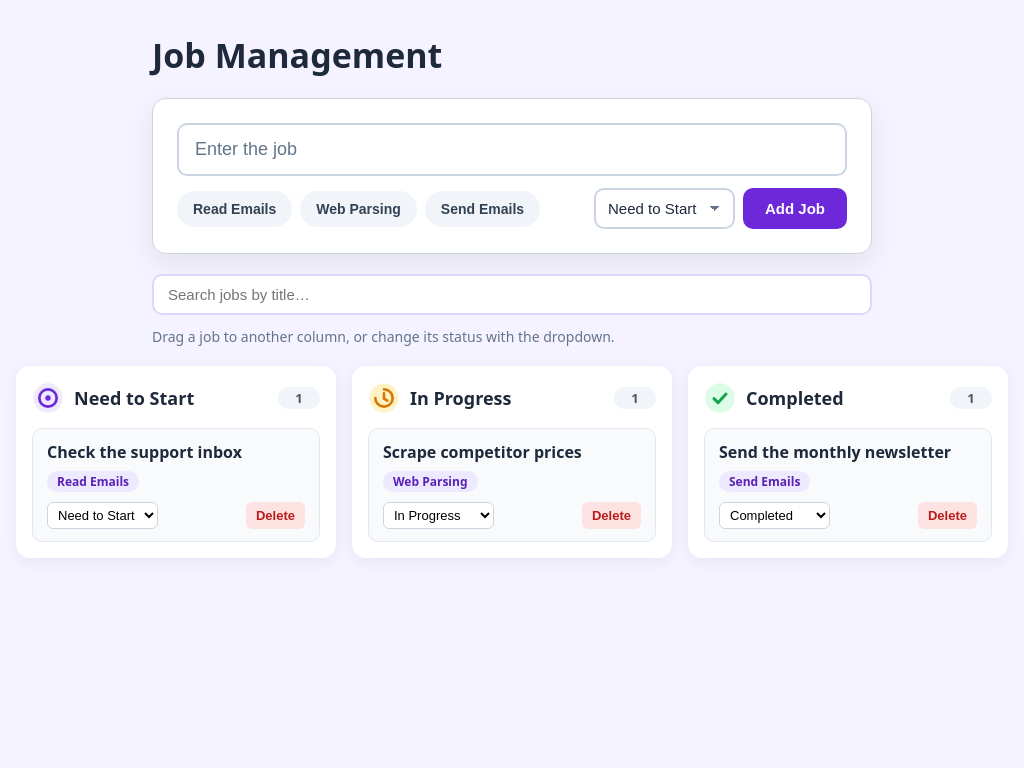
Test case: adds a new job from the form
Type "Parse product pages" into the field with placeholder "Enter the job" at {"x": 512, "y": 150}, box left=177, top=123, right=847, bottom=176
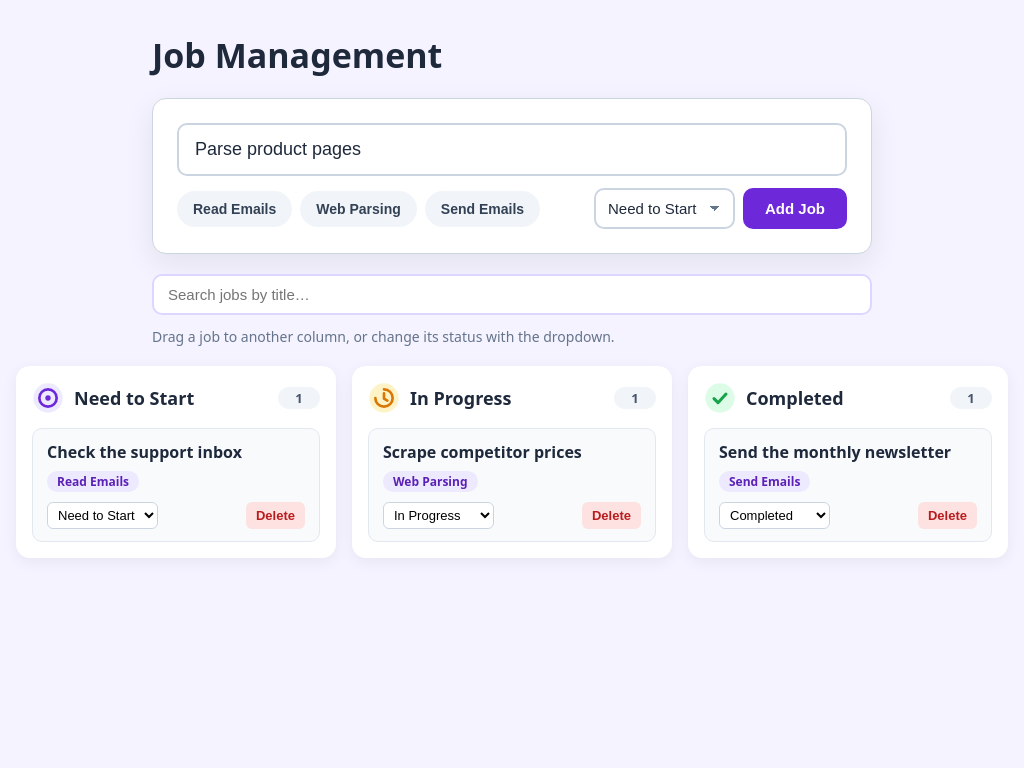
Click the button "Web Parsing" at {"x": 359, "y": 208}, box left=300, top=190, right=417, bottom=226
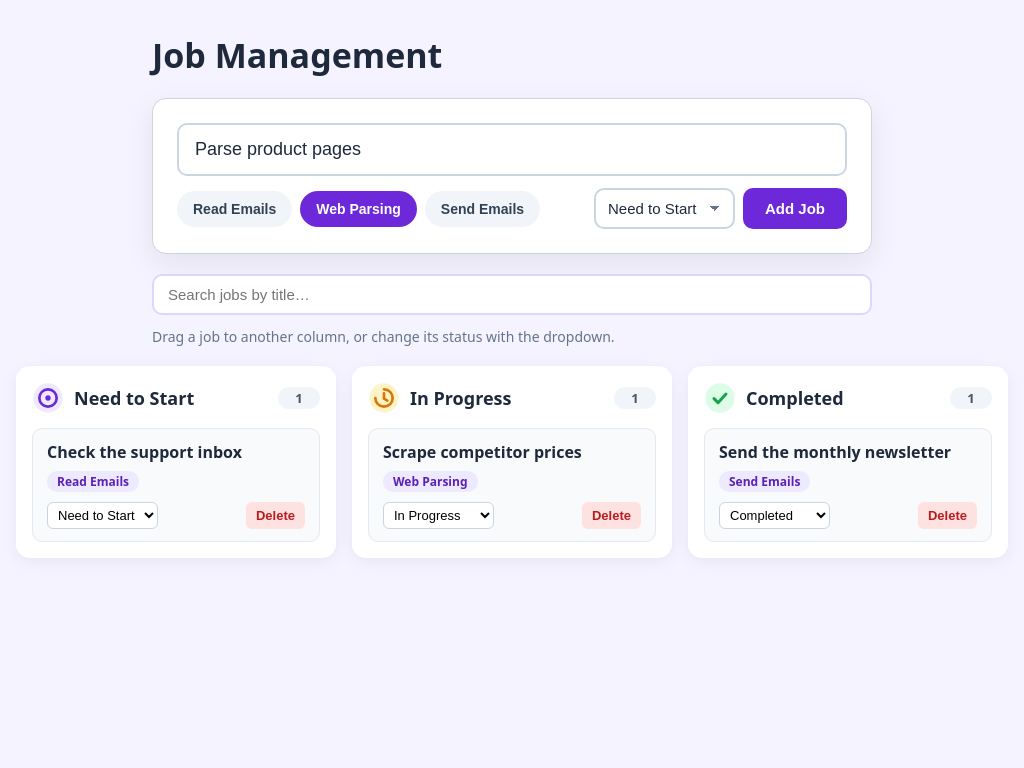
Select "In Progress" in the dropdown named "New job status" at {"x": 664, "y": 208}, box left=594, top=188, right=735, bottom=229
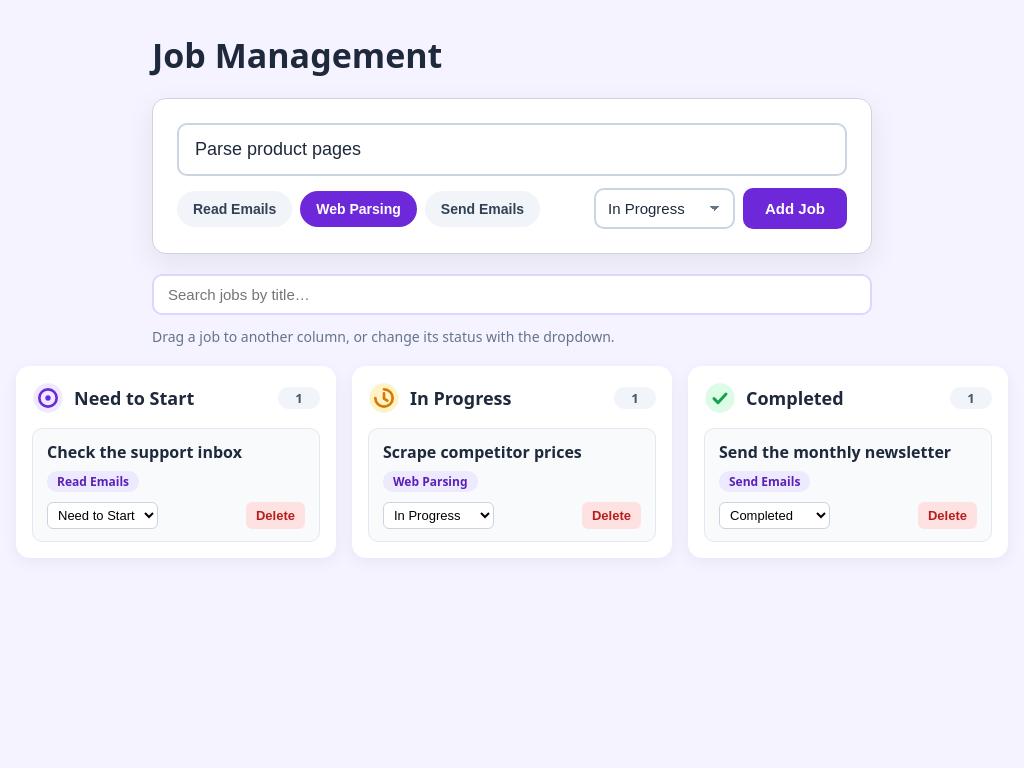
Click the button "Add Job" at {"x": 795, "y": 208}, box left=743, top=188, right=847, bottom=229
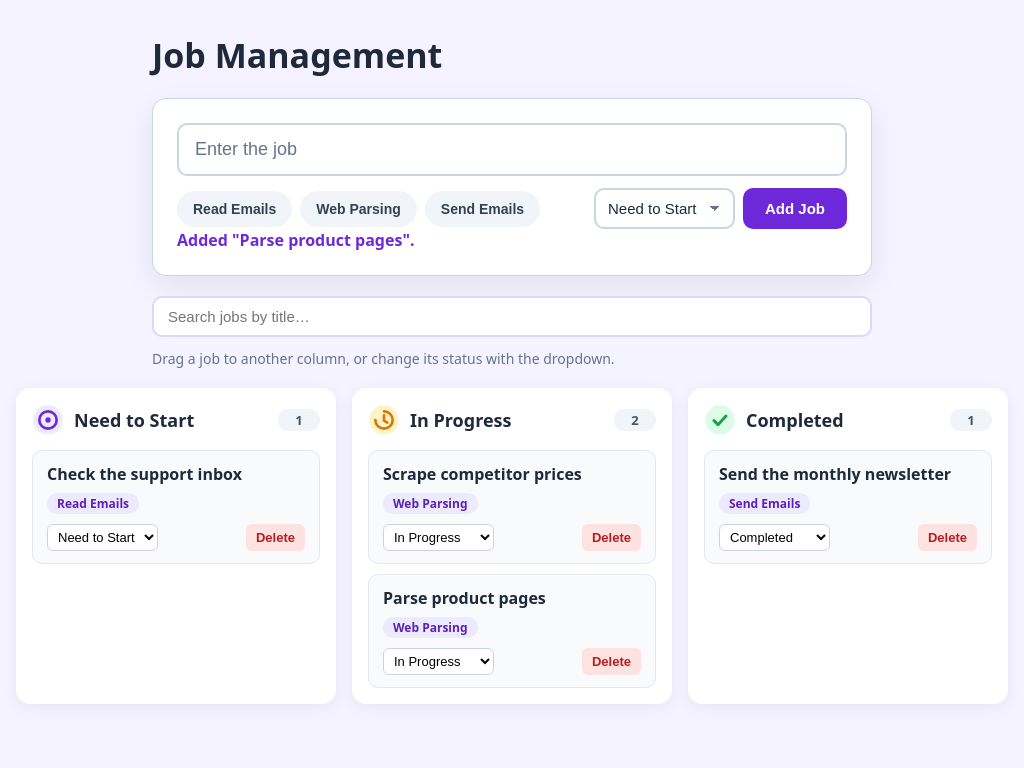
Now the message "Added \"Parse product pages\"." is shown, box left=177, top=229, right=414, bottom=251
